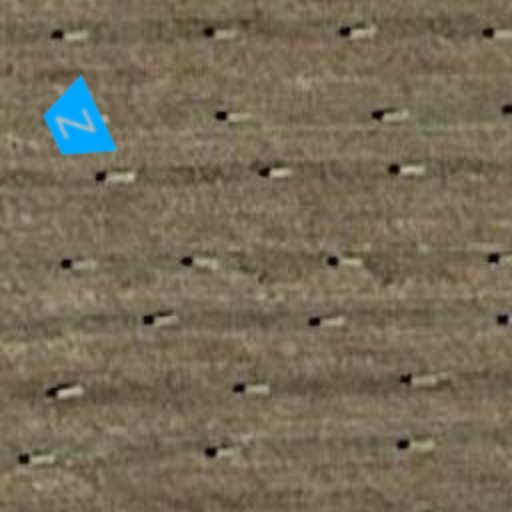trapezoid: (18, 66, 134, 182)
